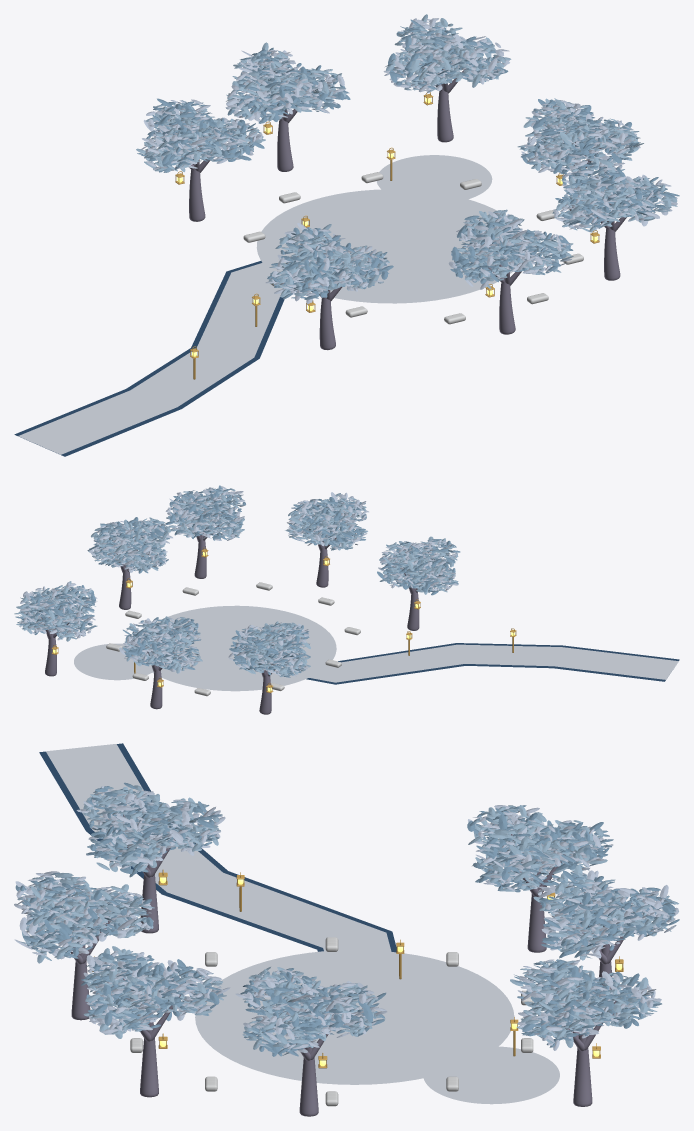
The model's file is Orchard.glb.
The picture shows the model from 3 angles, top to bottom: view 1: azimuth 30°, elevation 25°; view 2: azimuth 150°, elevation 25°; view 3: azimuth 270°, elevation 25°; orthographic projection. The views are drawn at different scales.
Visible parts, largest first — view 1: Orchard • pearl path, Orchard • moon leaves 1, Orchard • moon leaves 0, Orchard • moon leaves 2, Orchard • silver bark, Orchard • midnight blue, Orchard • pale limestone, Orchard • warm brass; view 2: Orchard • pearl path, Orchard • moon leaves 1, Orchard • moon leaves 0, Orchard • moon leaves 2, Orchard • silver bark, Orchard • midnight blue, Orchard • pale limestone, Orchard • warm brass; view 3: Orchard • pearl path, Orchard • moon leaves 1, Orchard • moon leaves 0, Orchard • moon leaves 2, Orchard • silver bark, Orchard • midnight blue, Orchard • pale limestone, Orchard • warm brass.
Boxes of the visible parts, left/top/right/bottom form: Orchard • pearl path: left=18, top=155, right=519, bottom=454; Orchard • moon leaves 1: left=136, top=14, right=677, bottom=298; Orchard • moon leaves 0: left=137, top=19, right=679, bottom=299; Orchard • moon leaves 2: left=141, top=18, right=677, bottom=304; Orchard • silver bark: left=181, top=69, right=626, bottom=350; Orchard • midnight blue: left=14, top=261, right=287, bottom=456; Orchard • pale limestone: left=243, top=172, right=583, bottom=324; Orchard • warm brass: left=175, top=92, right=599, bottom=379; Orchard • pearl path: left=74, top=605, right=678, bottom=691; Orchard • moon leaves 1: left=14, top=488, right=458, bottom=676; Orchard • moon leaves 0: left=15, top=485, right=460, bottom=677; Orchard • moon leaves 2: left=19, top=486, right=458, bottom=676; Orchard • silver bark: left=41, top=524, right=431, bottom=714; Orchard • midnight blue: left=306, top=643, right=679, bottom=684; Orchard • pale limestone: left=106, top=582, right=360, bottom=696; Orchard • warm brass: left=51, top=547, right=516, bottom=693; Orchard • pearl path: left=46, top=744, right=559, bottom=1104; Orchard • moon leaves 1: left=17, top=785, right=678, bottom=1055; Orchard • moon leaves 0: left=15, top=782, right=679, bottom=1056; Orchard • moon leaves 2: left=14, top=786, right=678, bottom=1055; Orchard • silver bark: left=59, top=814, right=634, bottom=1116; Orchard • midnight blue: left=39, top=743, right=396, bottom=952; Orchard • pale limestone: left=130, top=937, right=533, bottom=1106; Orchard • warm brass: left=92, top=869, right=623, bottom=1068.
Bounding box in the file's own units: 41.49 × 6.45 × 29.2.
